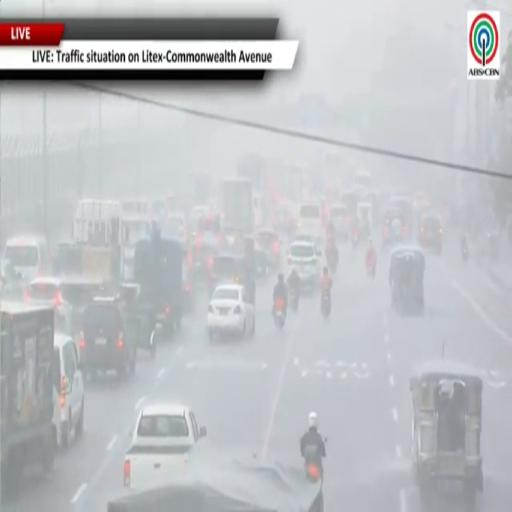car: (124, 403, 206, 489), (80, 297, 137, 377), (26, 277, 101, 335), (53, 333, 84, 447), (207, 283, 255, 340), (26, 278, 72, 332), (4, 236, 50, 282), (287, 240, 320, 290), (209, 251, 245, 291), (255, 230, 282, 267), (297, 203, 323, 241), (419, 214, 443, 254), (331, 204, 351, 241), (182, 265, 194, 314)
motorcycle: (304, 446, 321, 482), (274, 297, 285, 329), (326, 249, 338, 274), (289, 288, 299, 312), (366, 254, 376, 278), (321, 291, 330, 317), (461, 237, 469, 262), (351, 230, 360, 248), (366, 263, 375, 278), (462, 247, 468, 263)
truck: (0, 301, 61, 498), (134, 233, 183, 335), (222, 179, 254, 235), (237, 154, 264, 191)
